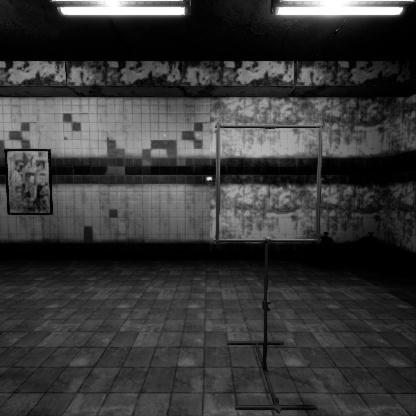gate: (215, 172, 332, 292)
